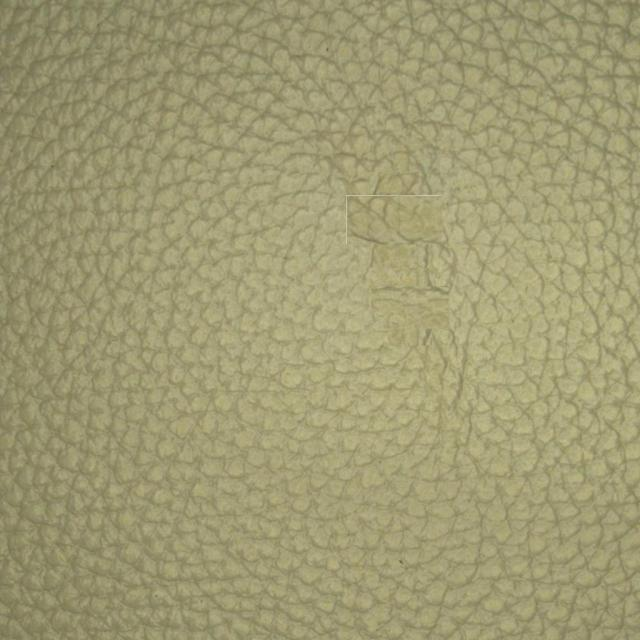Healed Injury: (323, 110, 498, 380)
